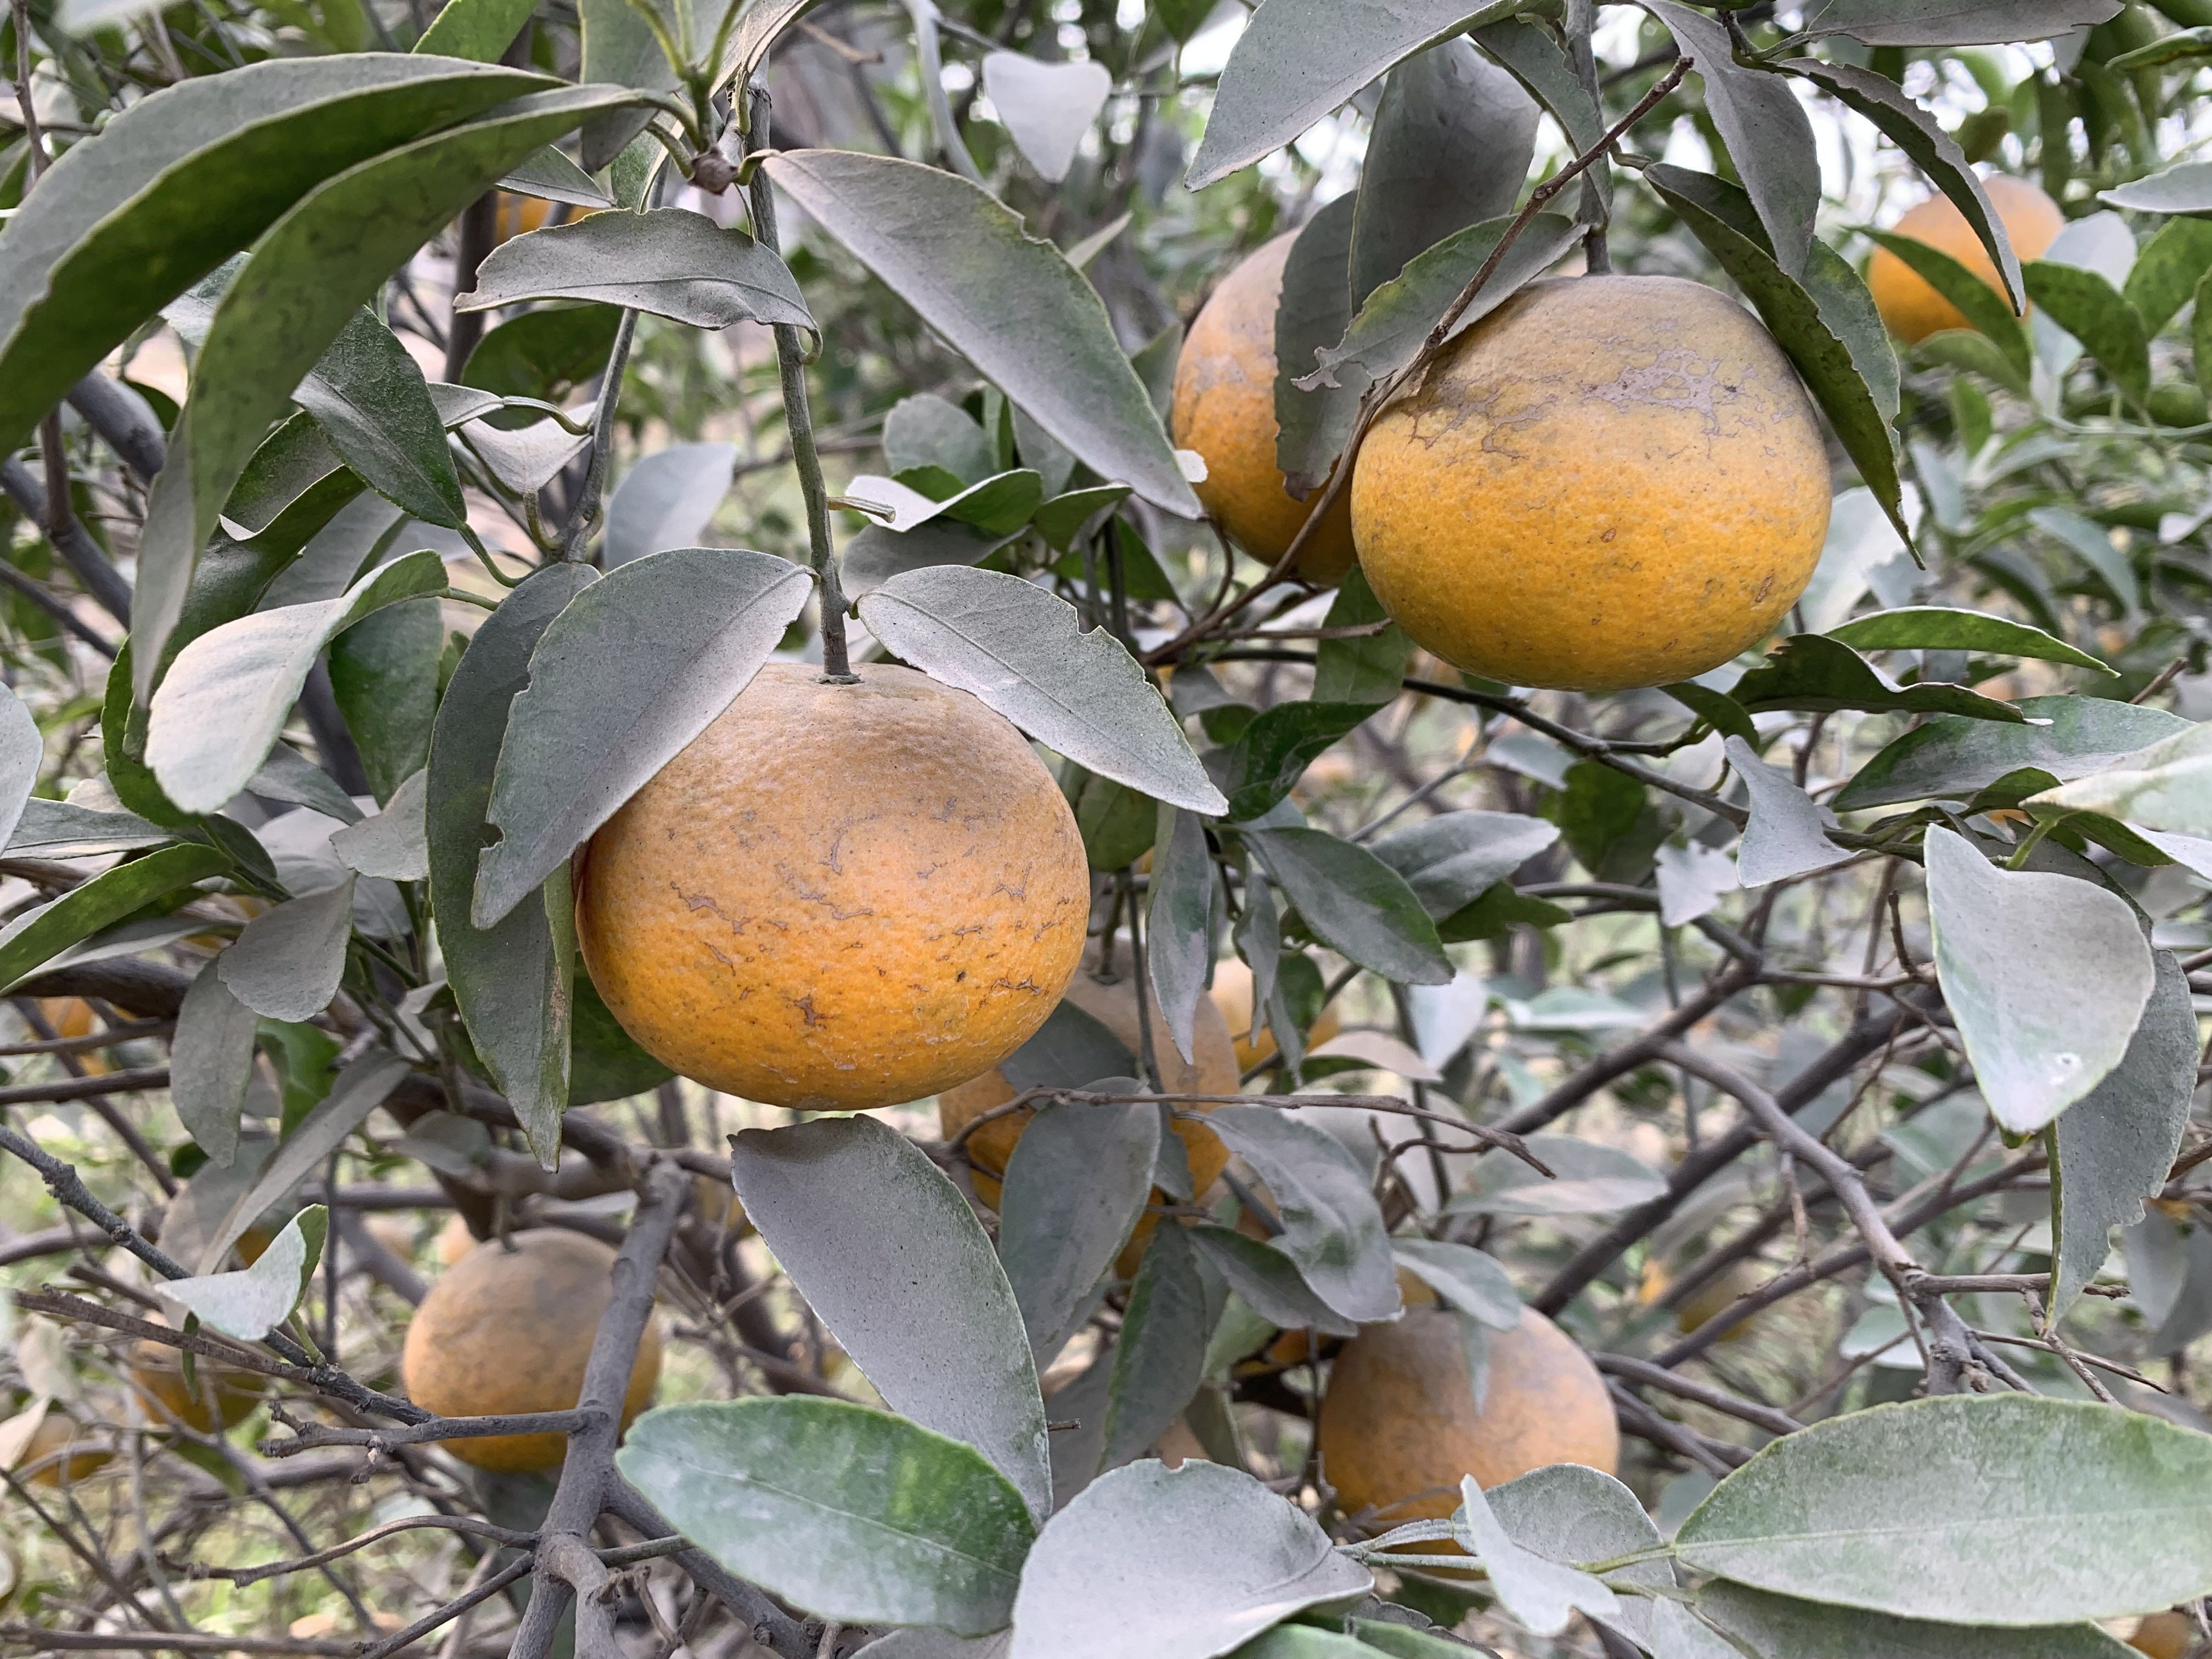orange: (573, 666, 1090, 1115), (1350, 274, 1836, 687), (939, 936, 1242, 1215), (1318, 1304, 1622, 1577), (1172, 223, 1359, 586), (402, 1223, 667, 1471), (1125, 1122, 1341, 1375), (1871, 173, 2064, 342), (131, 1307, 280, 1429), (1209, 951, 1339, 1072), (472, 176, 610, 249), (26, 1396, 125, 1485)
